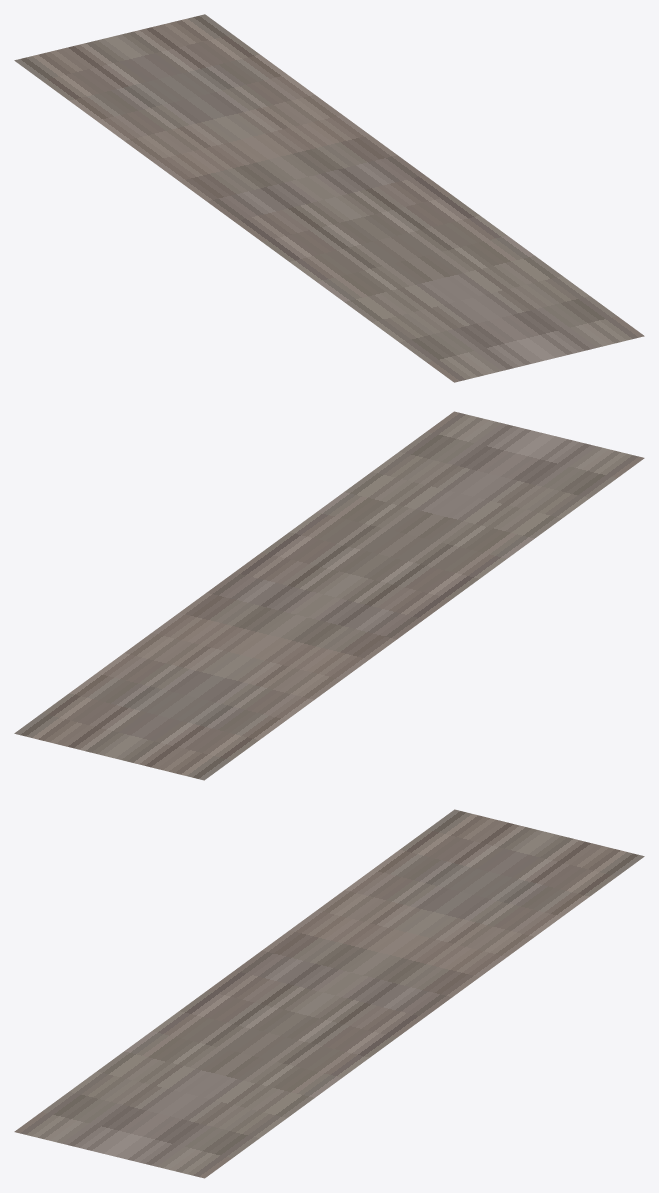
Rendered from pir_m_bld_frt_innerWallCrumbling_200_footprint.fbx.
3 views of the same model, one above another, from view 1: azimuth 30°, elevation 25°; view 2: azimuth 150°, elevation 25°; view 3: azimuth 330°, elevation 25° (orthographic).
Parts seen in each view (by area): view 1: footprint; view 2: footprint; view 3: footprint.
Boxes of the visible parts, left/top/right/bottom form: footprint: left=14, top=14, right=644, bottom=382; footprint: left=14, top=411, right=644, bottom=780; footprint: left=14, top=809, right=644, bottom=1178.
Size of the model in its own units: 5000 by 0.00326 by 19998.
Materials: 1 (1 with a texture image).
